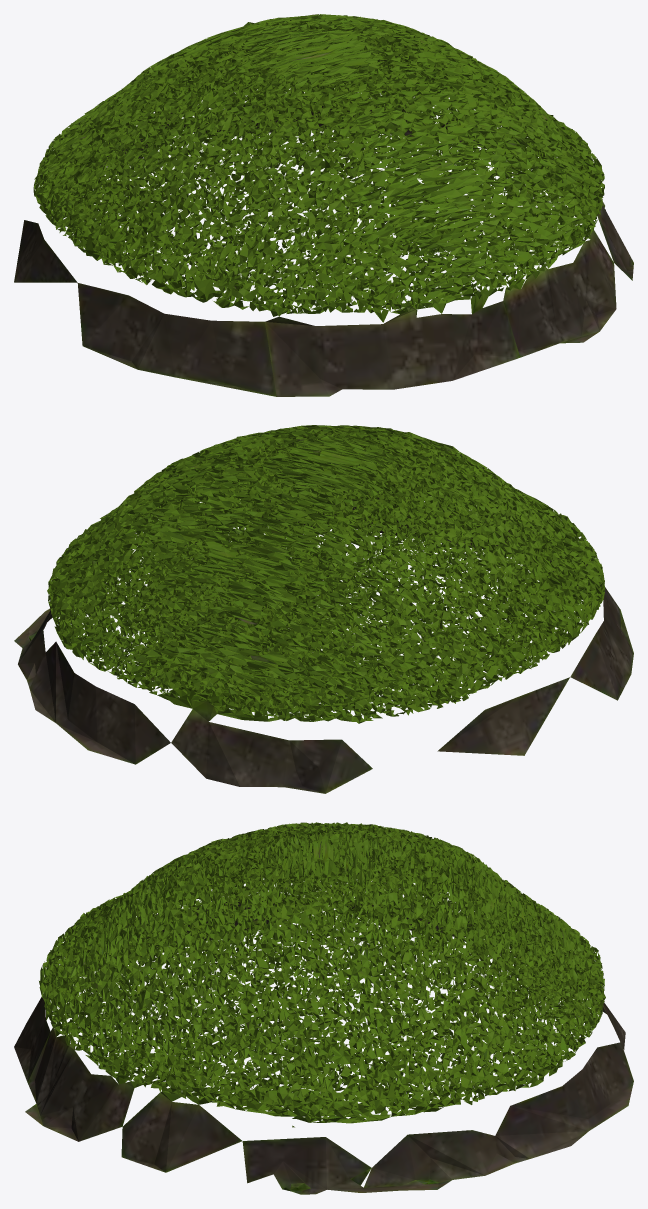
File: lush_grassy_mound.glb
3 views of the same model, one above another, from view 1: azimuth 30°, elevation 25°; view 2: azimuth 150°, elevation 25°; view 3: azimuth 270°, elevation 25° (orthographic). The views are drawn at different scales.
Parts seen in each view (by area): view 1: world; view 2: world; view 3: world.
Boxes of the visible parts, x1,y1,x2,y2 form: world: [14, 14, 633, 396]; world: [14, 425, 633, 793]; world: [14, 822, 633, 1194].
Bounding box in the file's own units: 8 × 3 × 8.
1 material, 1 textured.
